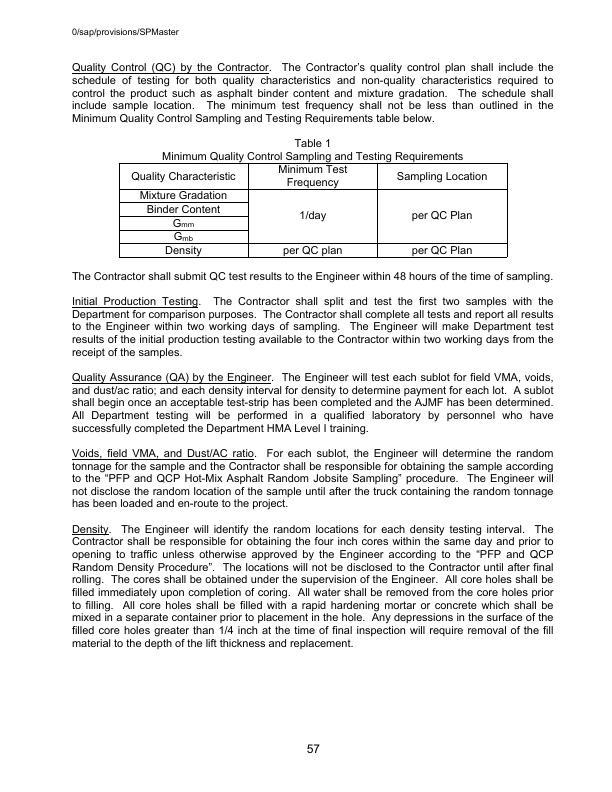table: (116, 160, 510, 261)
text: (70, 522, 558, 654), (67, 59, 558, 126), (68, 294, 560, 360), (67, 446, 558, 512), (67, 370, 562, 435), (67, 268, 557, 287), (159, 133, 466, 162)
